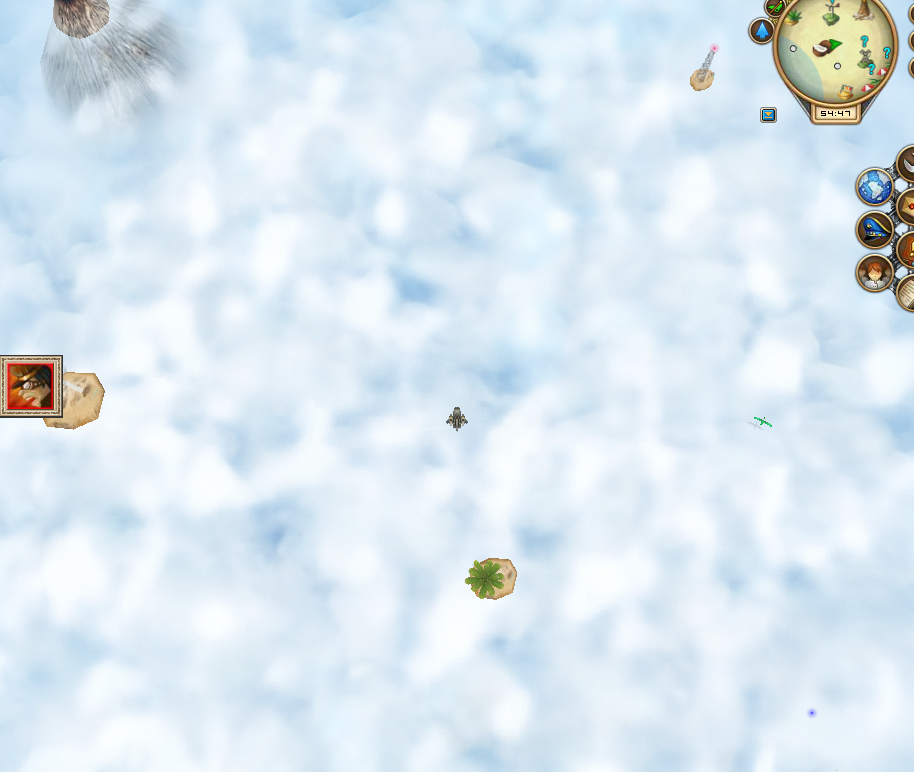palm: (460, 551, 522, 603)
